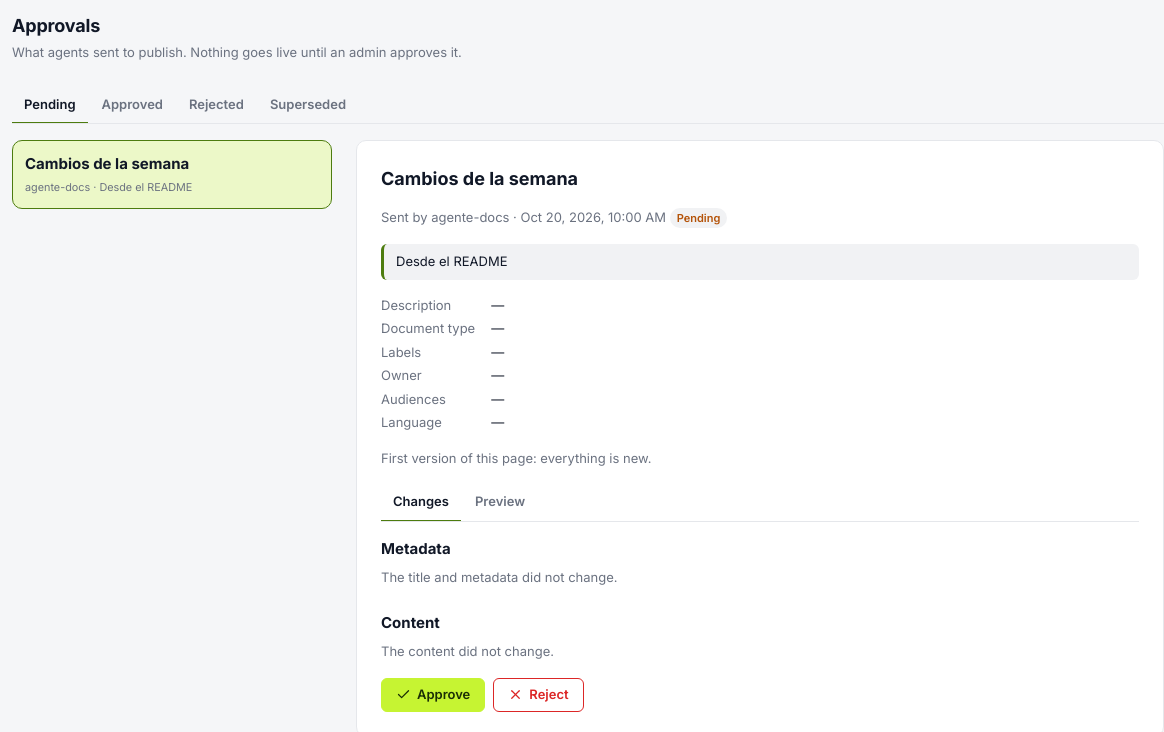
ApprovalQueue › lists the pending queue and filters by status
Expected: the text "Cambios de la semana" is shown, [25, 153, 189, 176]
Expected: the button "Approve" is shown, [381, 678, 485, 712]
Click the tab "Rejected" at (216, 105), box [177, 86, 256, 124]
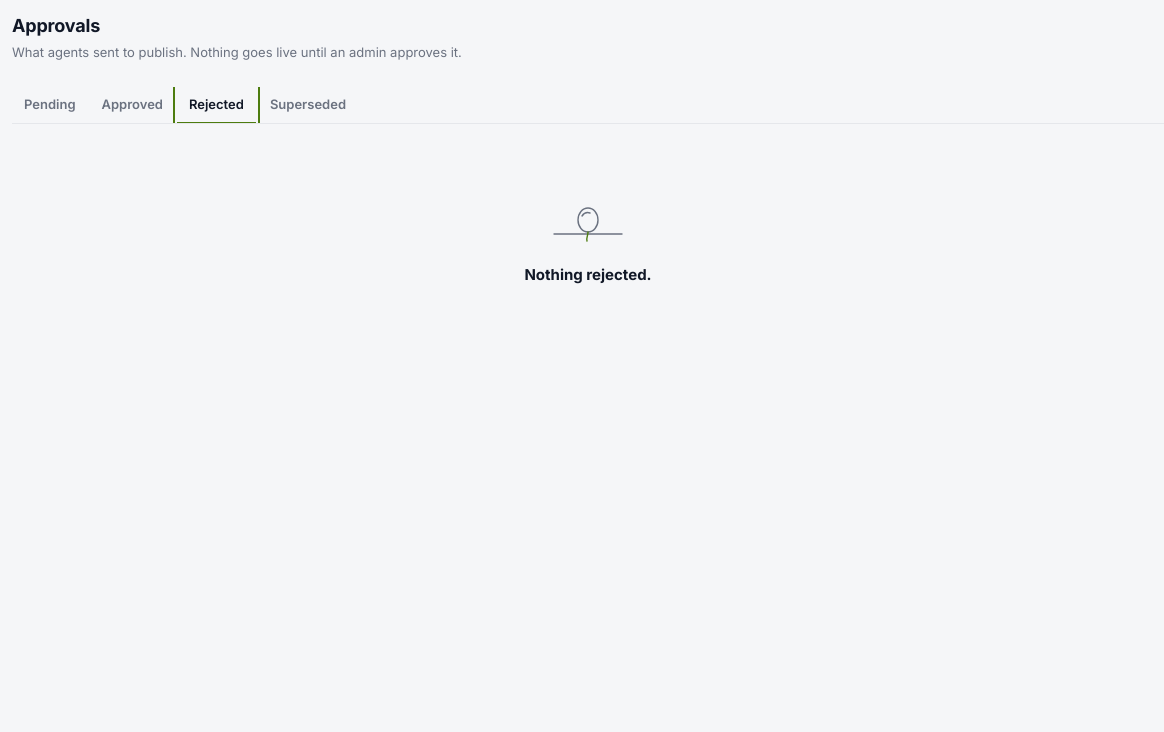
Expected: the heading "Nothing rejected." is shown, [524, 264, 652, 286]
